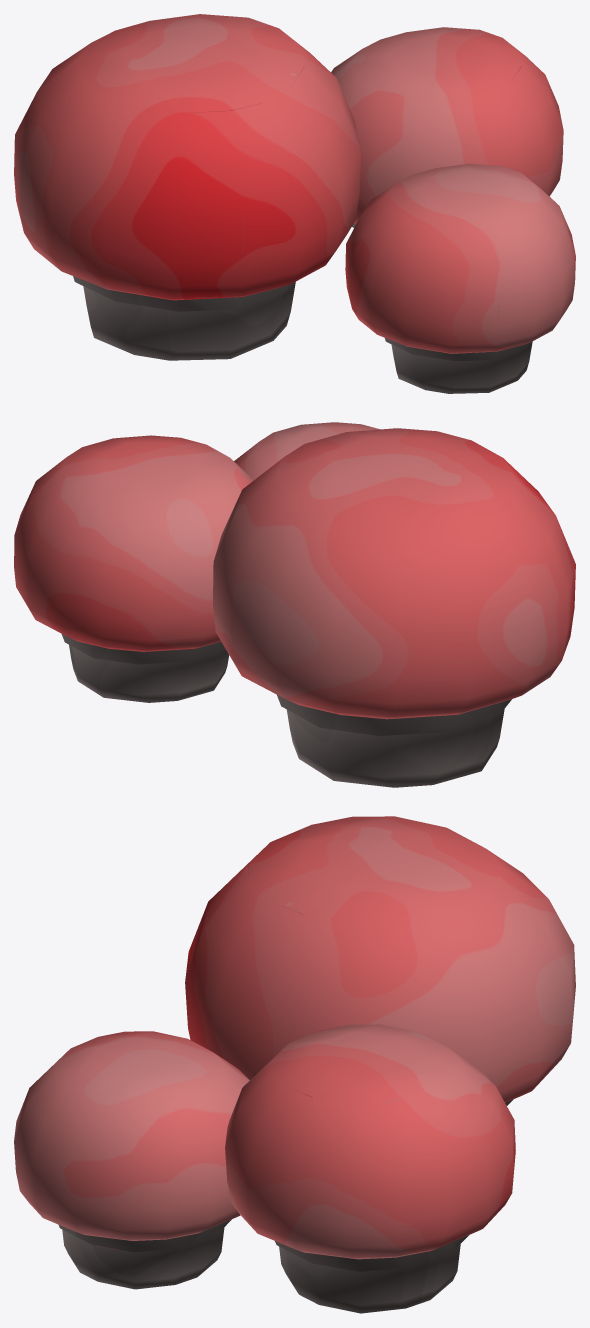
File: Mantar2.fbx
3 views of the same model, one above another, from view 1: azimuth 30°, elevation 25°; view 2: azimuth 150°, elevation 25°; view 3: azimuth 270°, elevation 25° (orthographic). The views are drawn at different scales.
Parts seen in each view (by area): view 1: mantar_2.001; view 2: mantar_2.001; view 3: mantar_2.001.
Part boxes in pixels (<box>): mantar_2.001: <box>14,14,575,393</box>; mantar_2.001: <box>14,422,575,787</box>; mantar_2.001: <box>14,816,575,1313</box>.
Size of the model in its own units: 28.73 by 15.46 by 24.84.
1 material, 1 textured.
